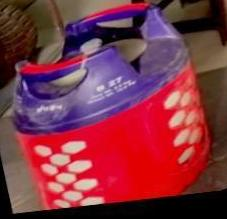cylinder: (1, 0, 227, 219)
